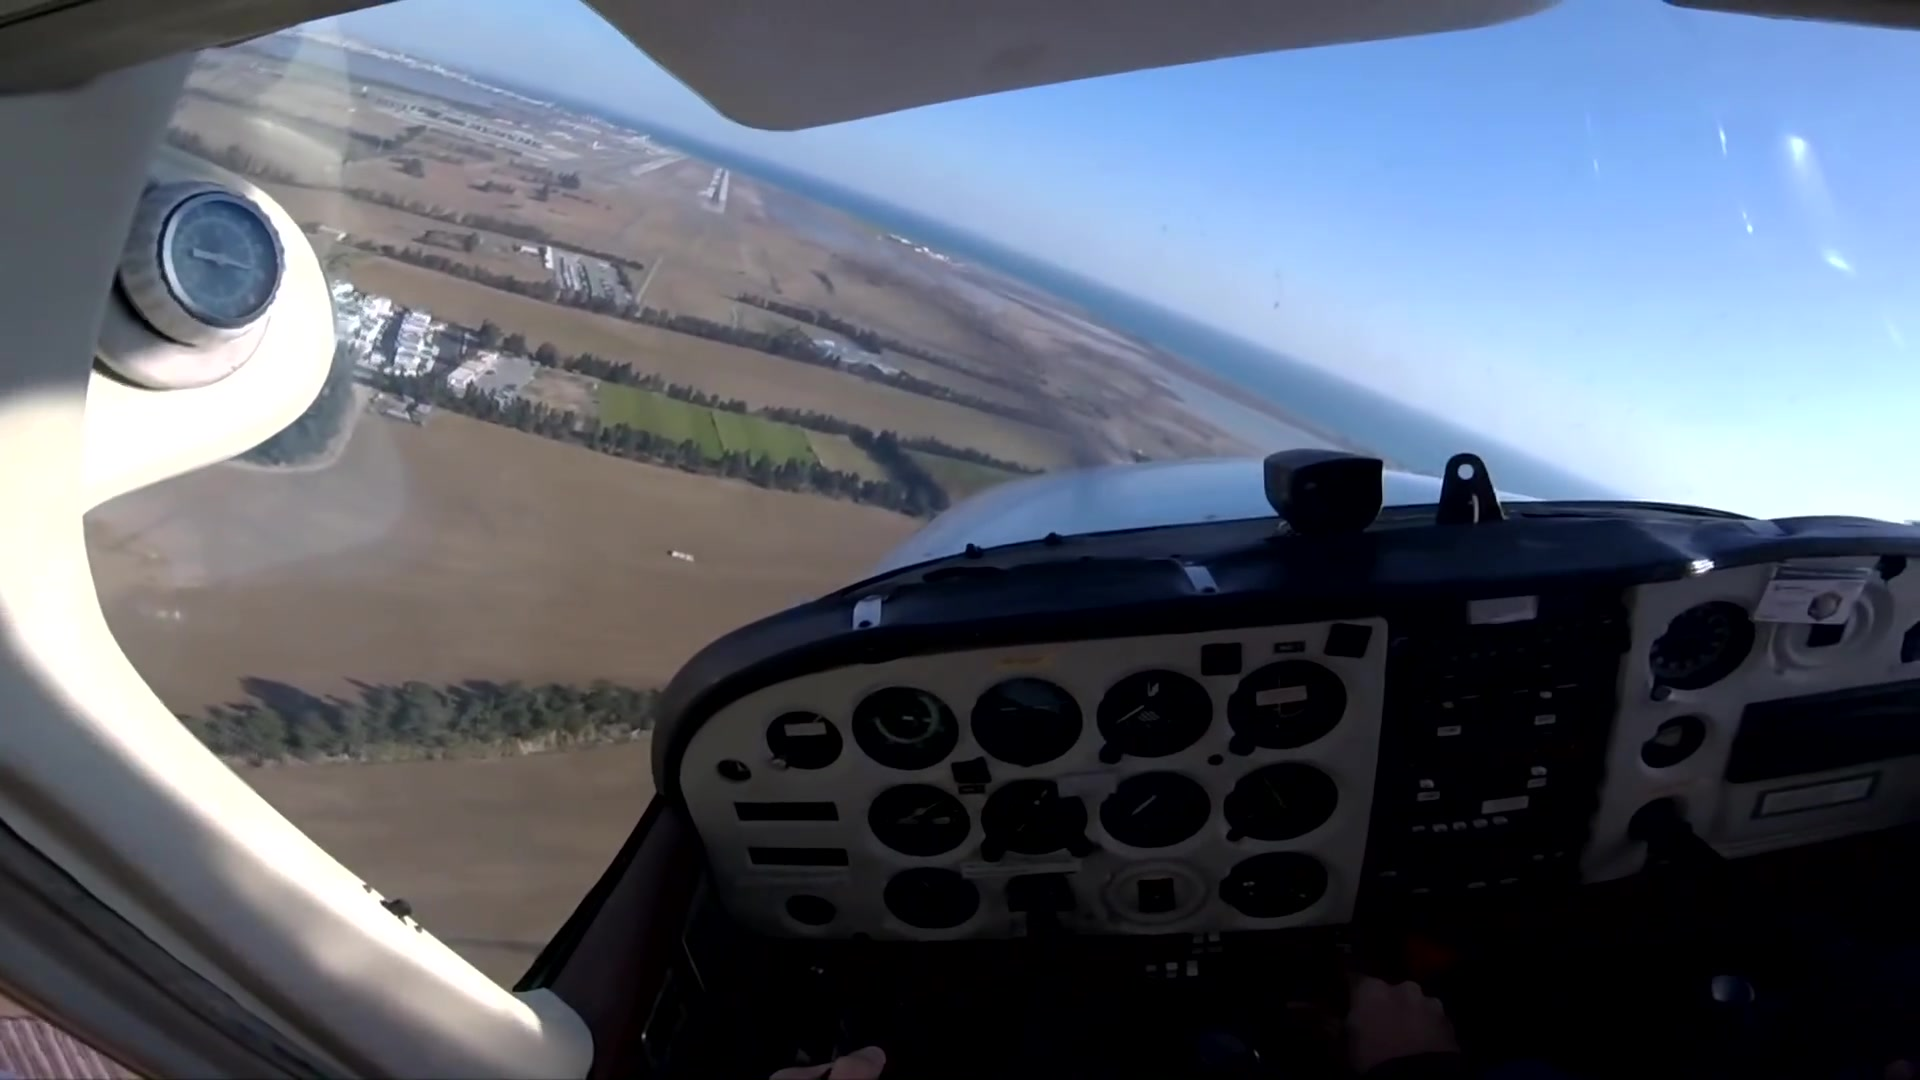runway: (695, 166, 732, 215)
